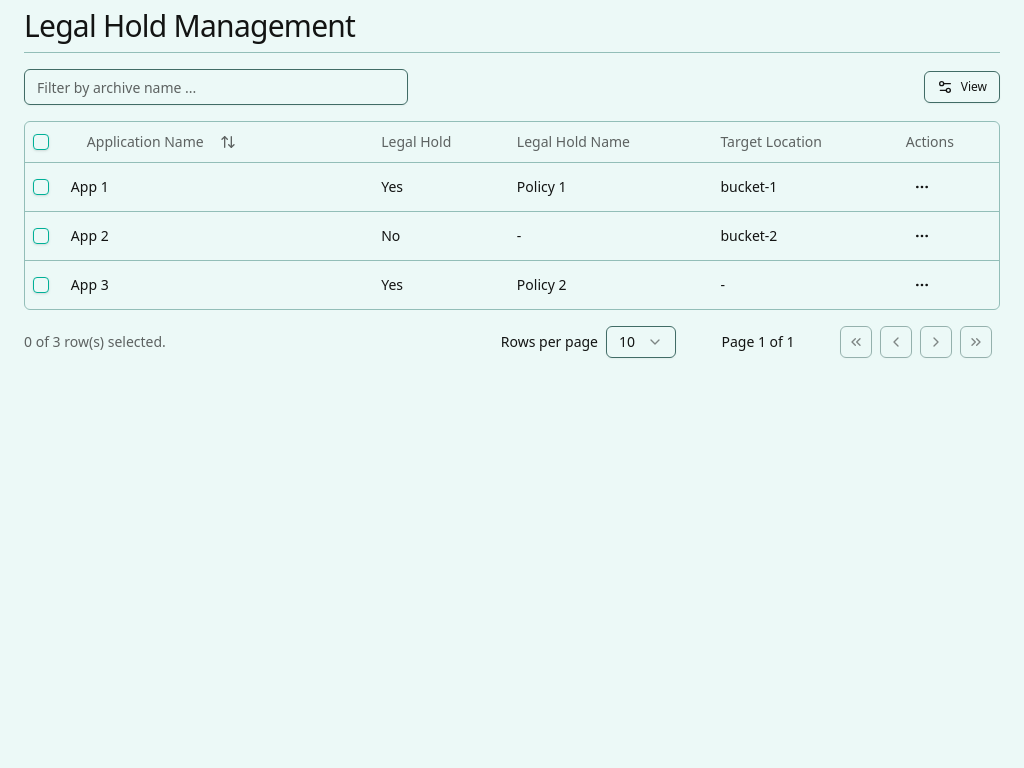
Test: Legal Hold Components › ListLegalHold Component › should show pending state in dialog when mutation is in progress
# Find and click the second dropdown menu (App 2 has legal_hold: false)
Click the button named "open menu" in the row of "App 2" at (922, 236), box [906,220,938,252]
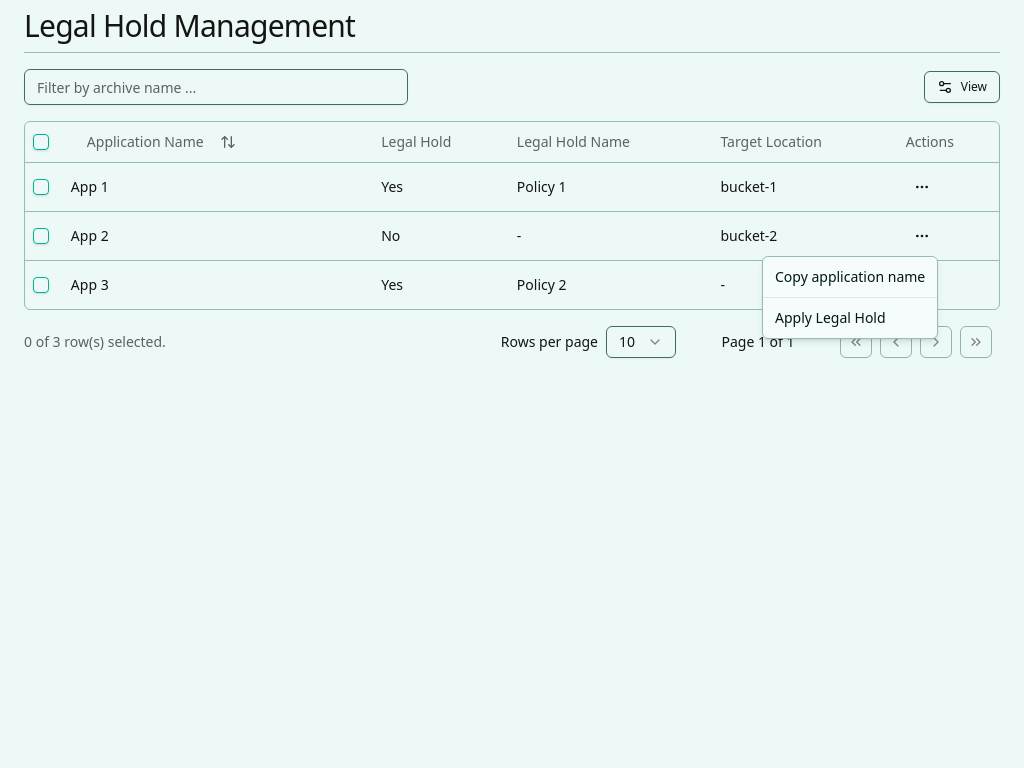
# Click on "Apply Legal Hold"
Click the menu item "Apply Legal Hold" at (830, 318), box [775,308,886,327]
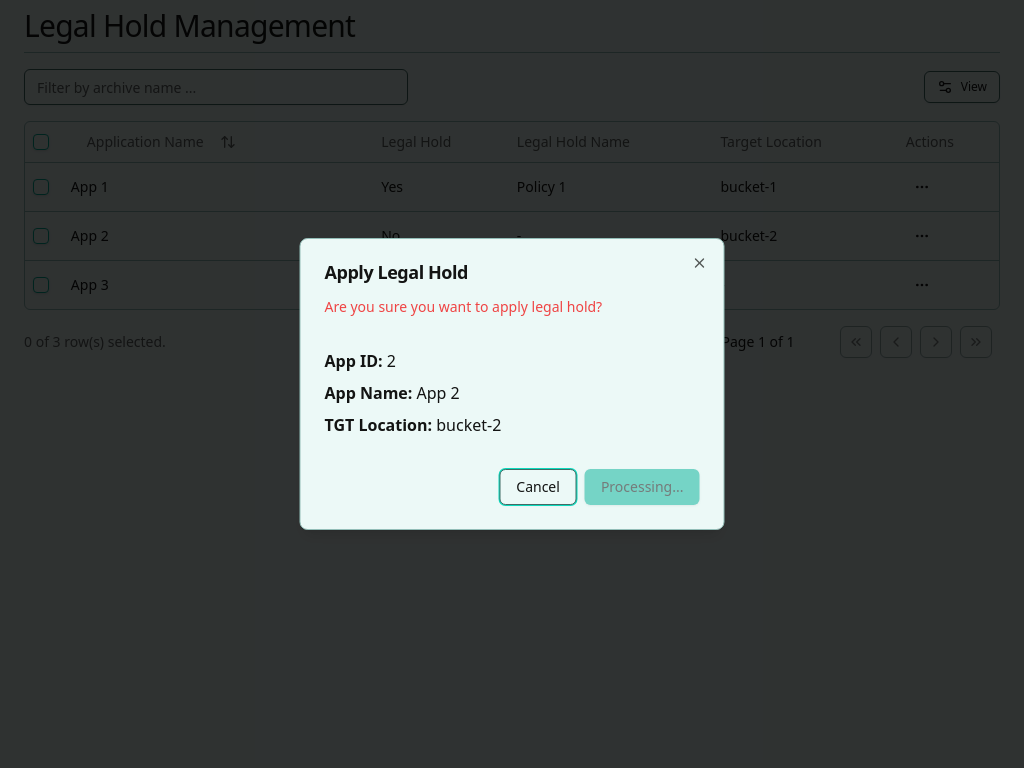
Expected: the button "Processing..." is shown, [585,469,700,505]
